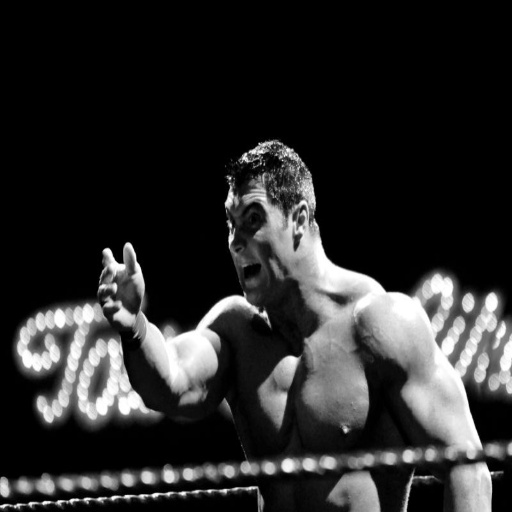hand: (97, 240, 145, 339)
